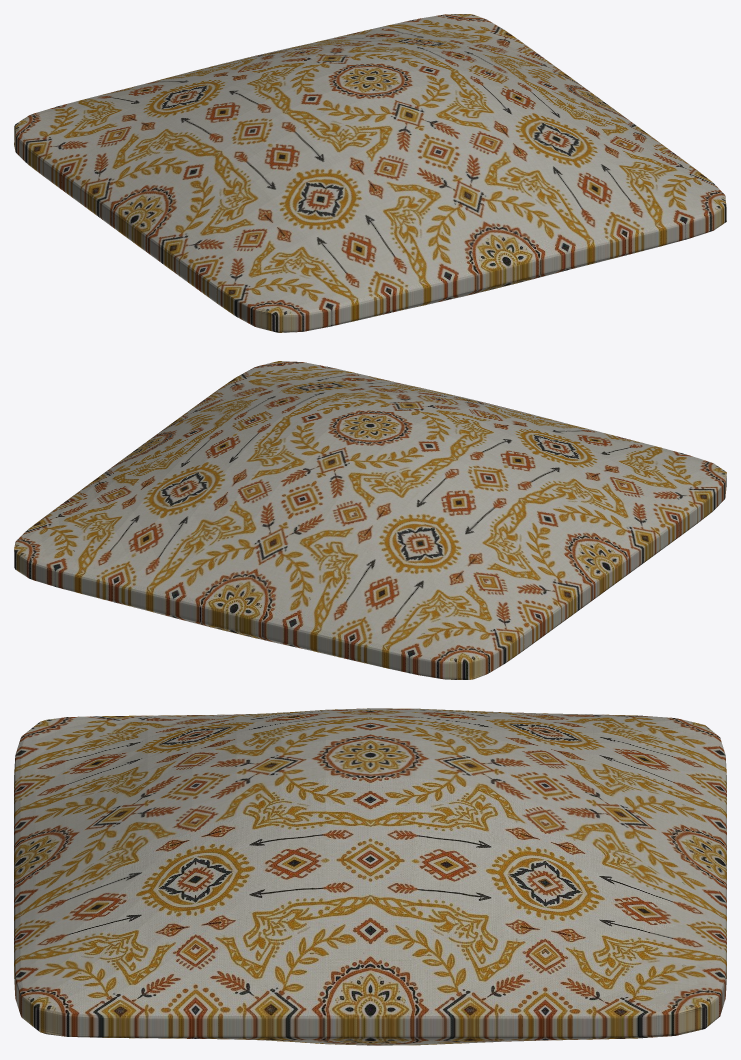
Rendered from cushion.glb.
The picture shows the model from 3 angles, top to bottom: view 1: azimuth 30°, elevation 25°; view 2: azimuth 150°, elevation 25°; view 3: azimuth 270°, elevation 25°; orthographic projection. The views are drawn at different scales.
Visible parts, largest first — view 1: world; view 2: world; view 3: world.
Part boxes in pixels (x1,y1,x2,y2): world: [14, 14, 726, 332]; world: [14, 361, 726, 679]; world: [14, 708, 726, 1045].
Bounding box in the file's own units: 0.4586 × 0.1734 × 0.4586.
Materials: 1 (1 with a texture image).
